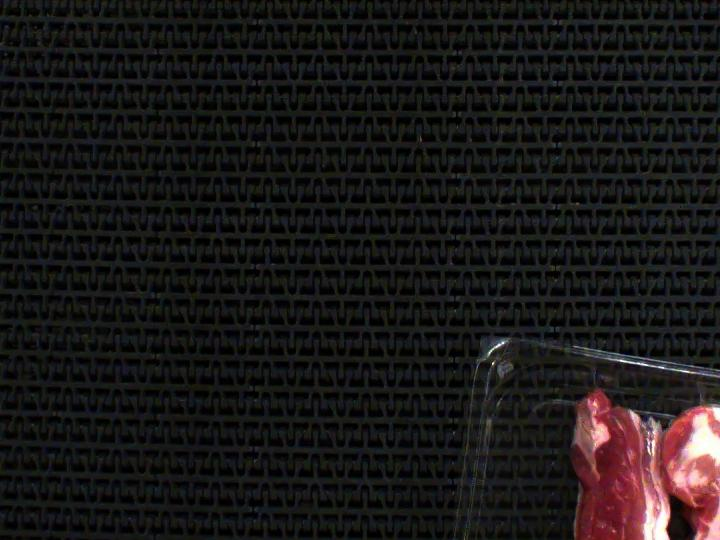packaging-error: (685, 373, 720, 414)
